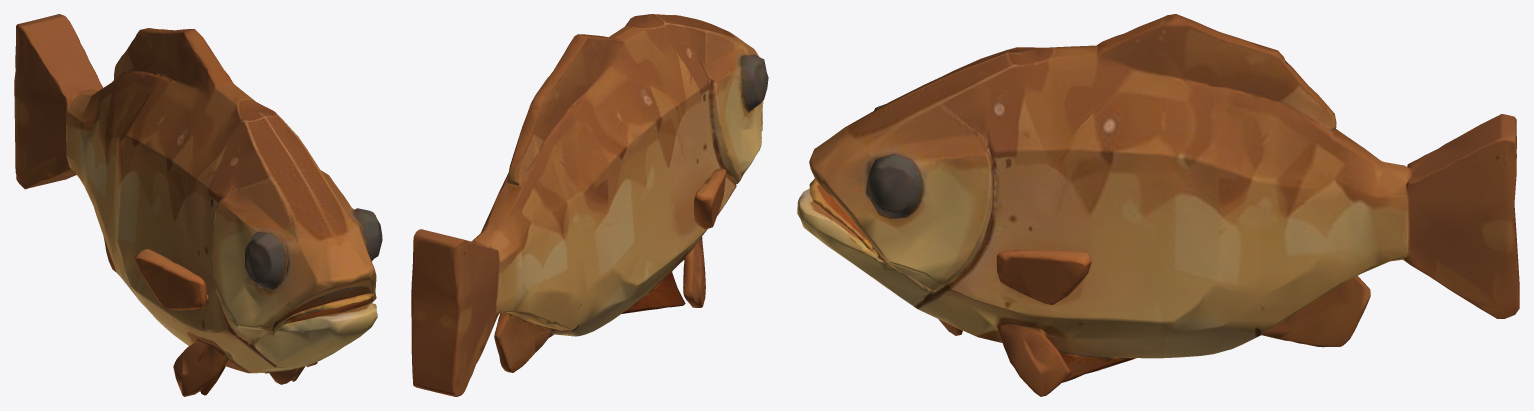
The model's file is fishPerch.glb.
3 renders of one model, left to right at view 1: azimuth 30°, elevation 25°; view 2: azimuth 150°, elevation 25°; view 3: azimuth 270°, elevation 25°, orthographic. The views are drawn at different scales.
Parts seen in each view (by area): view 1: tripo_node_a000095f-21b4-4422-8550-f0d03d86e04b; view 2: tripo_node_a000095f-21b4-4422-8550-f0d03d86e04b; view 3: tripo_node_a000095f-21b4-4422-8550-f0d03d86e04b.
Part boxes in pixels (x1=…): tripo_node_a000095f-21b4-4422-8550-f0d03d86e04b: x1=14, y1=14, x2=382, y2=396; tripo_node_a000095f-21b4-4422-8550-f0d03d86e04b: x1=411, y1=14, x2=768, y2=396; tripo_node_a000095f-21b4-4422-8550-f0d03d86e04b: x1=797, y1=14, x2=1519, y2=396.
Bounding box in the file's own units: 0.6449 × 1 × 1.88.
1 material, 1 textured.
